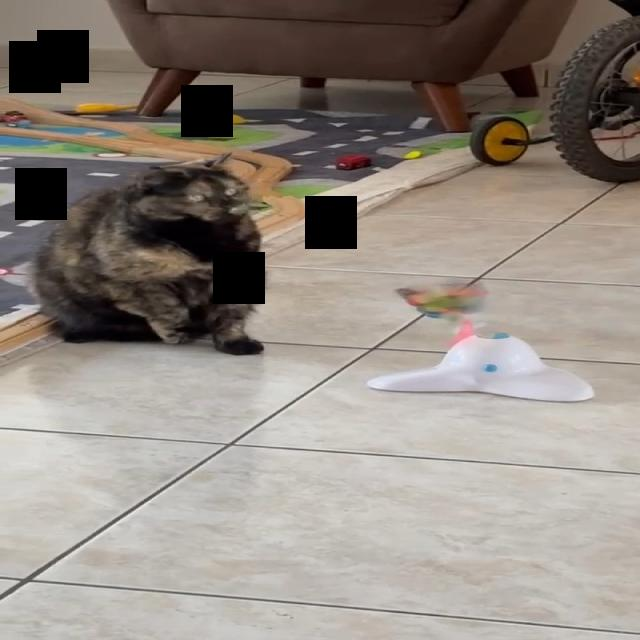authorized: (27, 151, 266, 355)
